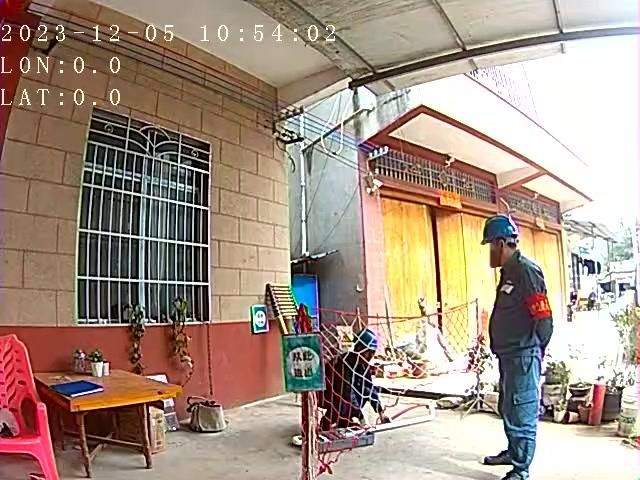halt: (483, 218, 523, 268), (356, 331, 384, 359)
